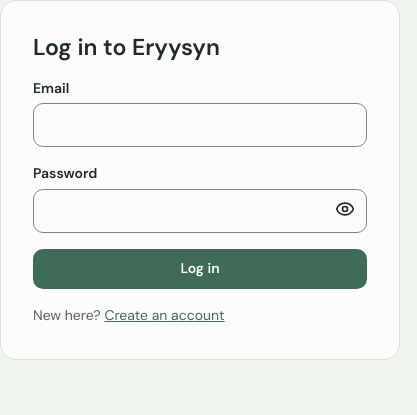
Test: Login › shows "Wrong email or password" on invalid credentials
The width and height of the screenshot is (417, 415).
Type "a@b.co" into the field labelled "Email" at (200, 125), box top-left (33, 103), bottom-right (367, 147)
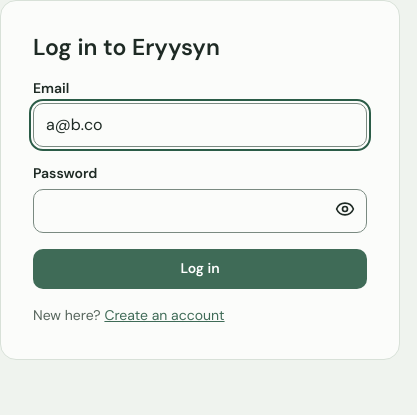
Type "secret1" into the password field labelled "Password" at (200, 211), box top-left (33, 189), bottom-right (367, 233)
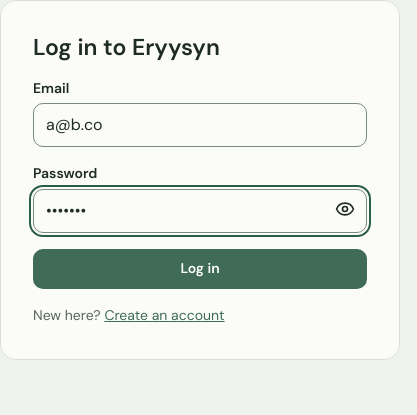
Click the button "Log in" at (200, 269), box top-left (33, 249), bottom-right (367, 289)
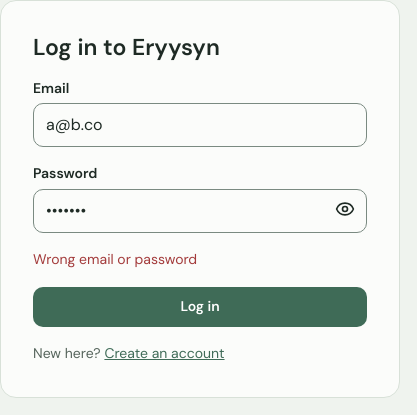
Result: the text "Wrong email or password" is shown at top-left (33, 250), bottom-right (197, 268)
